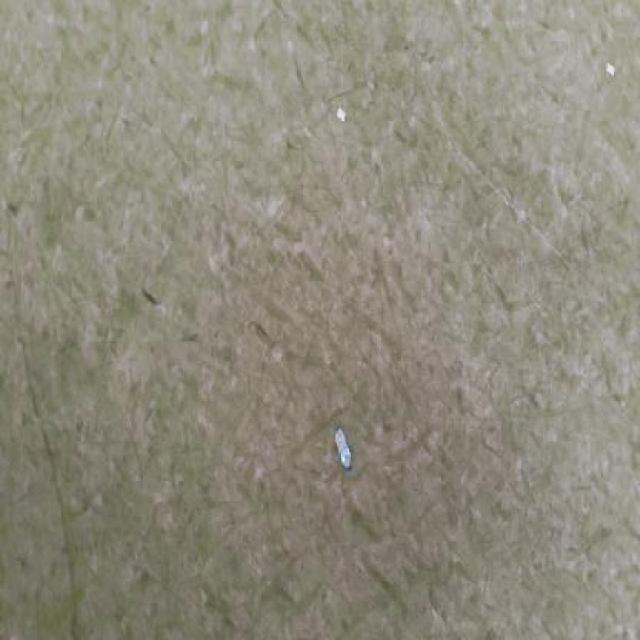Garbage: (334, 426, 352, 473), (336, 107, 347, 124), (606, 62, 615, 76)
